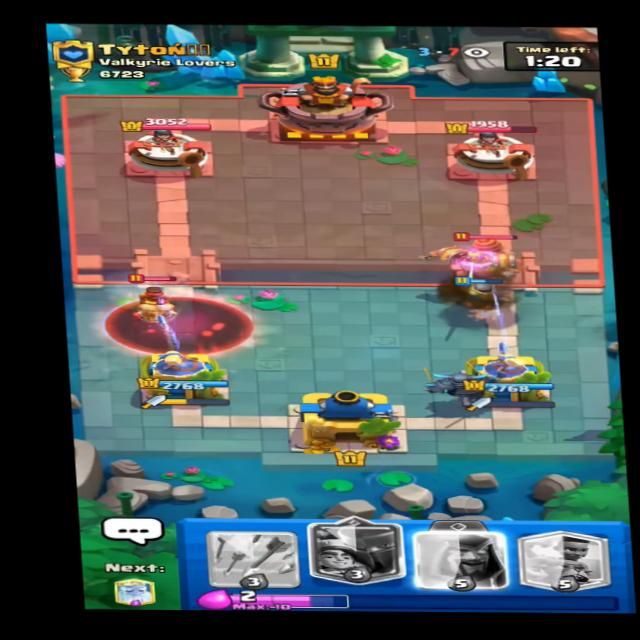Goblinmachine: (425, 230, 519, 290)
Ramrider: (121, 272, 180, 326)
